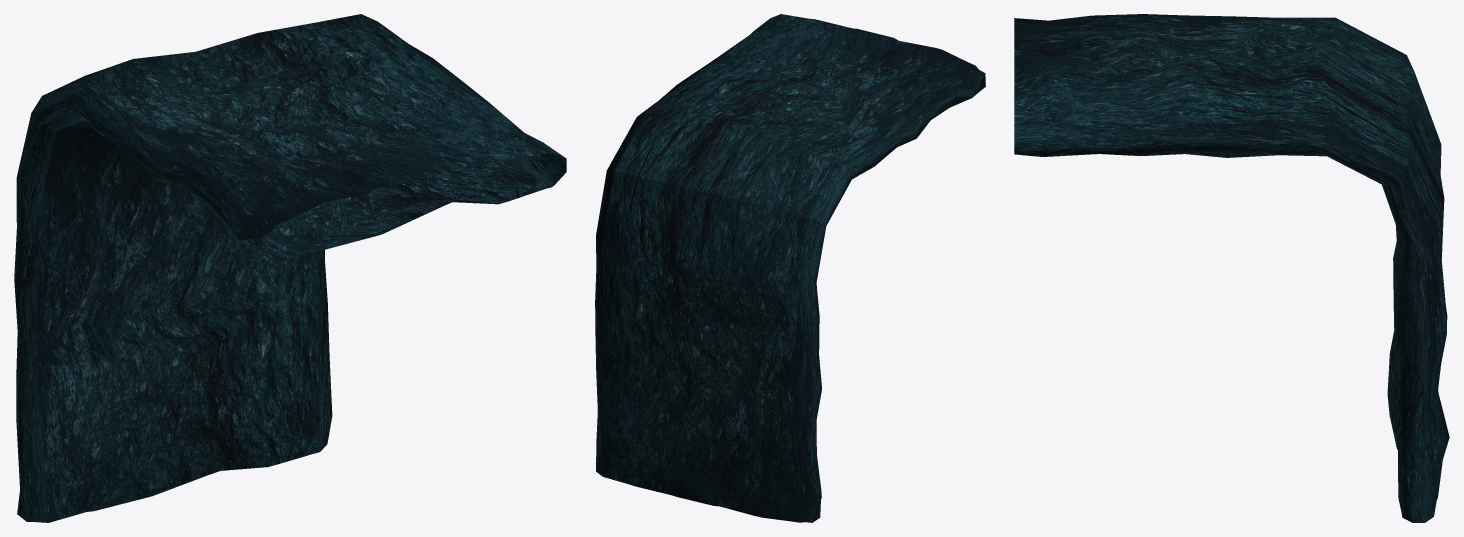
The model's file is wall_right_curve.fbx.
The picture shows the model from 3 angles, left to right: view 1: azimuth 30°, elevation 25°; view 2: azimuth 150°, elevation 25°; view 3: azimuth 270°, elevation 25°; orthographic projection. The views are drawn at different scales.
Parts seen in each view (by area): view 1: Sklála.1; view 2: Sklála.1; view 3: Sklála.1.
Part boxes in pixels (<box>): Sklála.1: <box>14,14,566,522</box>; Sklála.1: <box>595,14,985,522</box>; Sklála.1: <box>1014,14,1449,522</box>.
Bounding box in the file's own units: 1577 × 2365 × 2299.
1 material, 1 textured.
